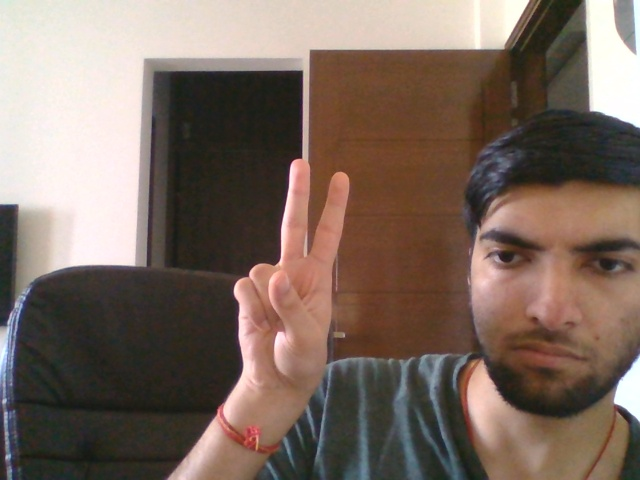LetterV: (230, 156, 351, 394)
